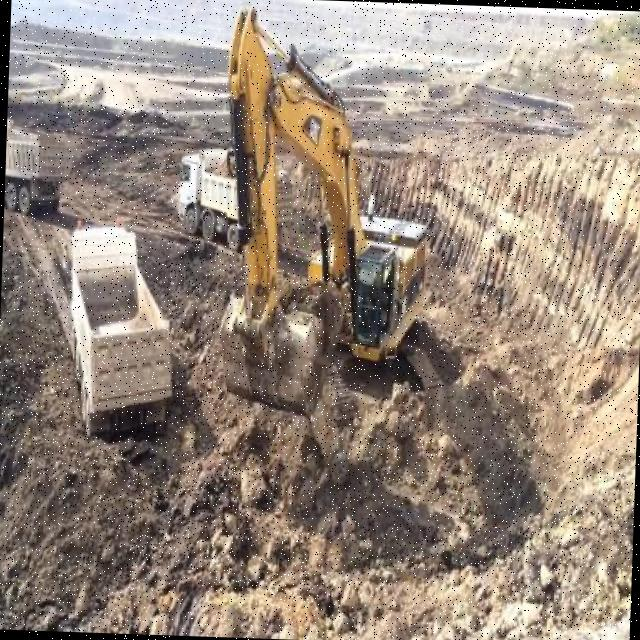Dump Truck: (58, 222, 180, 446), (172, 140, 293, 252), (3, 117, 68, 215)
Excavator: (202, 5, 454, 448)
